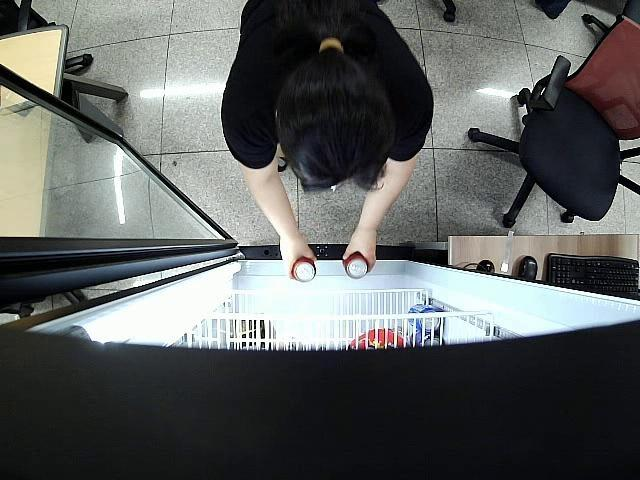11_cocaColaZero: (290, 257, 318, 284), (344, 254, 369, 278)
